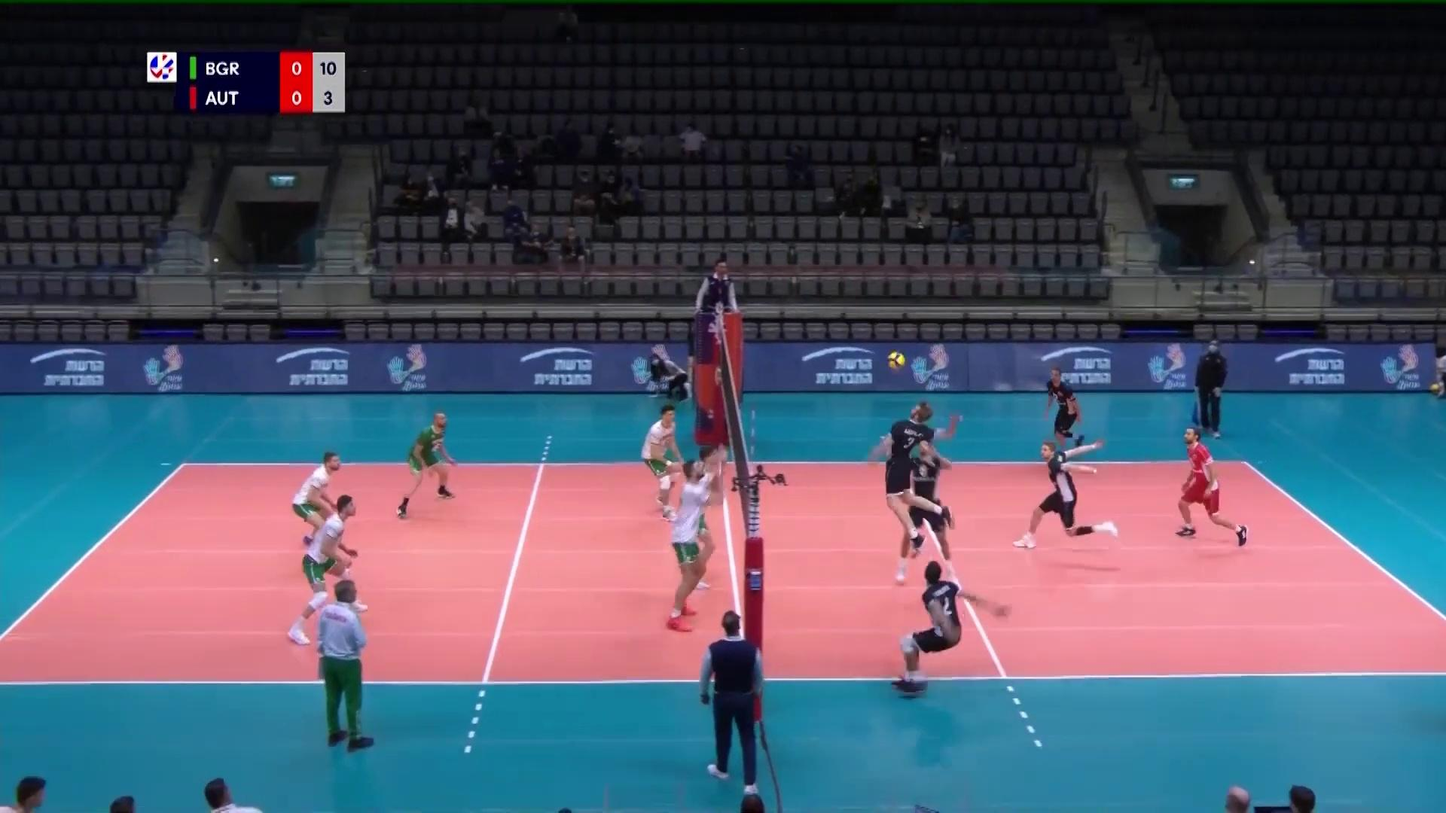ball: (887, 351, 906, 370)
